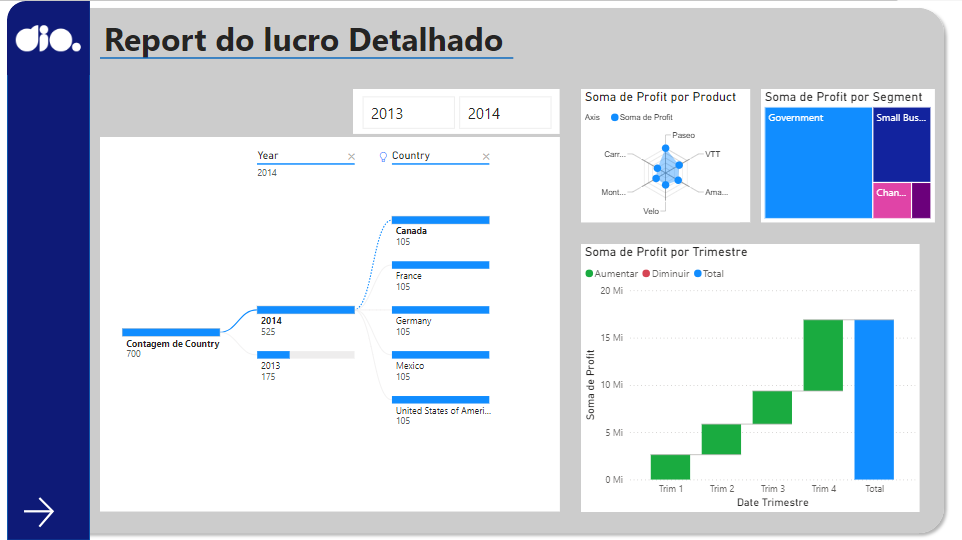

This screenshot's page, from the dashboard's own definition file:
{"tool":"powerbi","page":{"name":"Página 2","canvas":[1280,720],"ordinal":1},"visuals":[{"type":"shape","box":[0,0,1270,720],"z":0},{"type":"shape","box":[10,0,110.9,720.6],"z":1000},{"type":"shape","box":[10,0,110.7,99.3],"z":2000},{"type":"image","box":[16.7,1.3,97.3,97.3],"z":3000},{"type":"actionButton","box":[25,656.7,60,51.7],"z":4000},{"type":"shape","box":[134,182,614,500],"z":5000},{"type":"shape","box":[776,118,212,178],"z":6000},{"type":"shape","box":[1016,118,232,178],"z":7000},{"type":"shape","box":[776,324,452,358],"z":8000},{"type":"textbox","box":[134,16,748,68],"z":9000},{"type":"shape","box":[134,68,552,16],"z":10000},{"type":"decompositionTreeVisual","fields":{"ExplainBy":["financials.Year","financials.Country"],"Analyze":["CountNonNull(financials.Country)"]},"box":[134,182,614,500],"z":11000},{"type":"RadarChart1446119667547","fields":{"Y":["Sum(financials.Profit)"],"Category":["financials.Product"]},"box":[776,118,226,178],"z":12000},{"type":"treemap","fields":{"Values":["Sum(financials.Profit)"],"Group":["financials.Segment"]},"box":[1016,118,232,178],"z":13000},{"type":"waterfallChart","fields":{"Category":["financials.Date.Variation.Hierarquia de datas.Trimestre"],"Y":["Sum(financials.Profit)"]},"box":[776,324,452,358],"z":14000},{"type":"slicer","fields":{"Values":["financials.Date.Variation.Hierarquia de datas.Ano"]},"box":[472,118,276,60],"z":15000}]}

Visuals, with their boxes in screenshot pixels (x1, y1, x2, y2), scaled from the page's 1280x720 canvas onto the 962x540 screenshot:
shape: left=0, top=0, right=954, bottom=539
shape: left=8, top=0, right=91, bottom=539
shape: left=8, top=0, right=91, bottom=74
image: left=13, top=1, right=86, bottom=74
actionButton: left=19, top=493, right=64, bottom=531
shape: left=101, top=136, right=562, bottom=512
shape: left=583, top=88, right=743, bottom=222
shape: left=764, top=88, right=938, bottom=222
shape: left=583, top=243, right=923, bottom=512
textbox: left=101, top=12, right=663, bottom=63
shape: left=101, top=51, right=516, bottom=63
decompositionTreeVisual - financials.Year x financials.Country: left=101, top=136, right=562, bottom=512
RadarChart1446119667547 - Sum(financials.Profit) x financials.Product: left=583, top=88, right=753, bottom=222
treemap - Sum(financials.Profit) x financials.Segment: left=764, top=88, right=938, bottom=222
waterfallChart - financials.Date.Variation.Hierarquia de datas.Trimestre x Sum(financials.Profit): left=583, top=243, right=923, bottom=512
slicer - financials.Date.Variation.Hierarquia de datas.Ano: left=355, top=88, right=562, bottom=134
